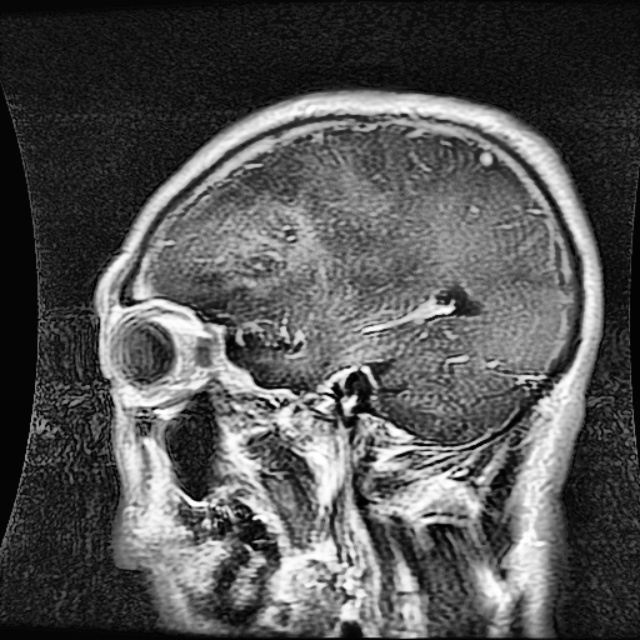Meningioma: (234, 203, 307, 282)
